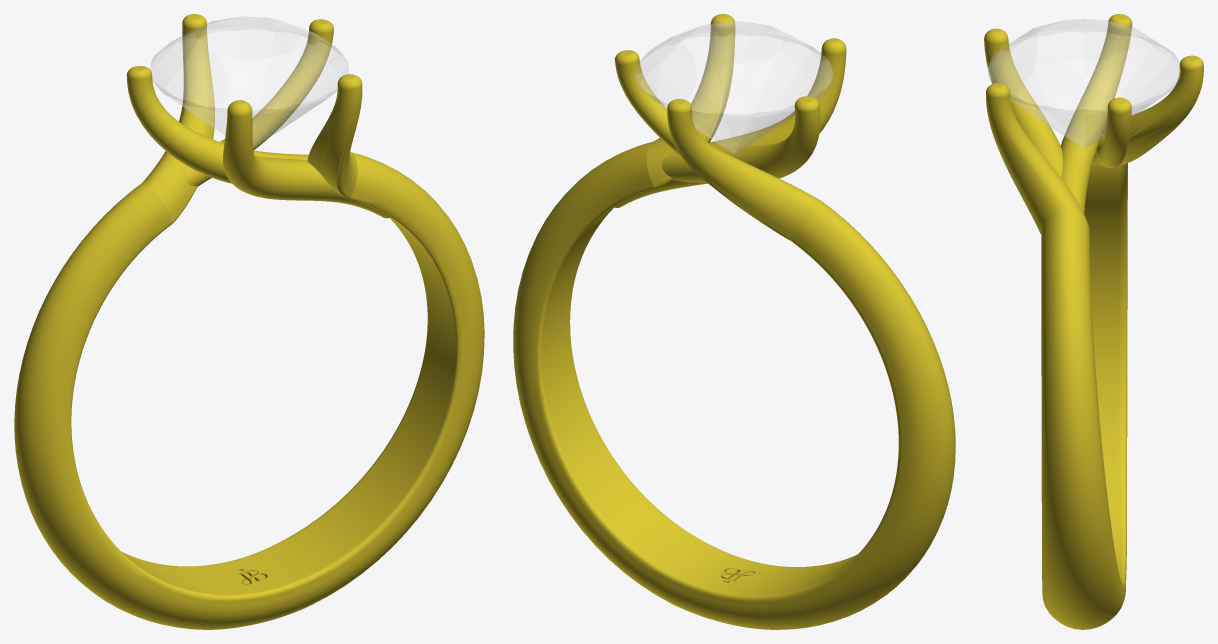
The model's file is For website.glb.
3 renders of one model, left to right at view 1: azimuth 30°, elevation 25°; view 2: azimuth 150°, elevation 25°; view 3: azimuth 270°, elevation 25°, orthographic. The views are drawn at different scales.
Visible parts, largest first — view 1: Metal 01, Diamond_Round; view 2: Metal 01, Diamond_Round; view 3: Metal 01, Diamond_Round.
Part boxes in pixels (x1=…): Metal 01: x1=14, y1=14, x2=484, y2=629; Diamond_Round: x1=150, y1=16, x2=348, y2=147; Metal 01: x1=513, y1=14, x2=955, y2=629; Diamond_Round: x1=636, y1=21, x2=832, y2=153; Metal 01: x1=984, y1=14, x2=1203, y2=629; Diamond_Round: x1=988, y1=19, x2=1180, y2=148.
Bounding box in the file's own units: 0.021 × 0.0258 × 0.0091.
